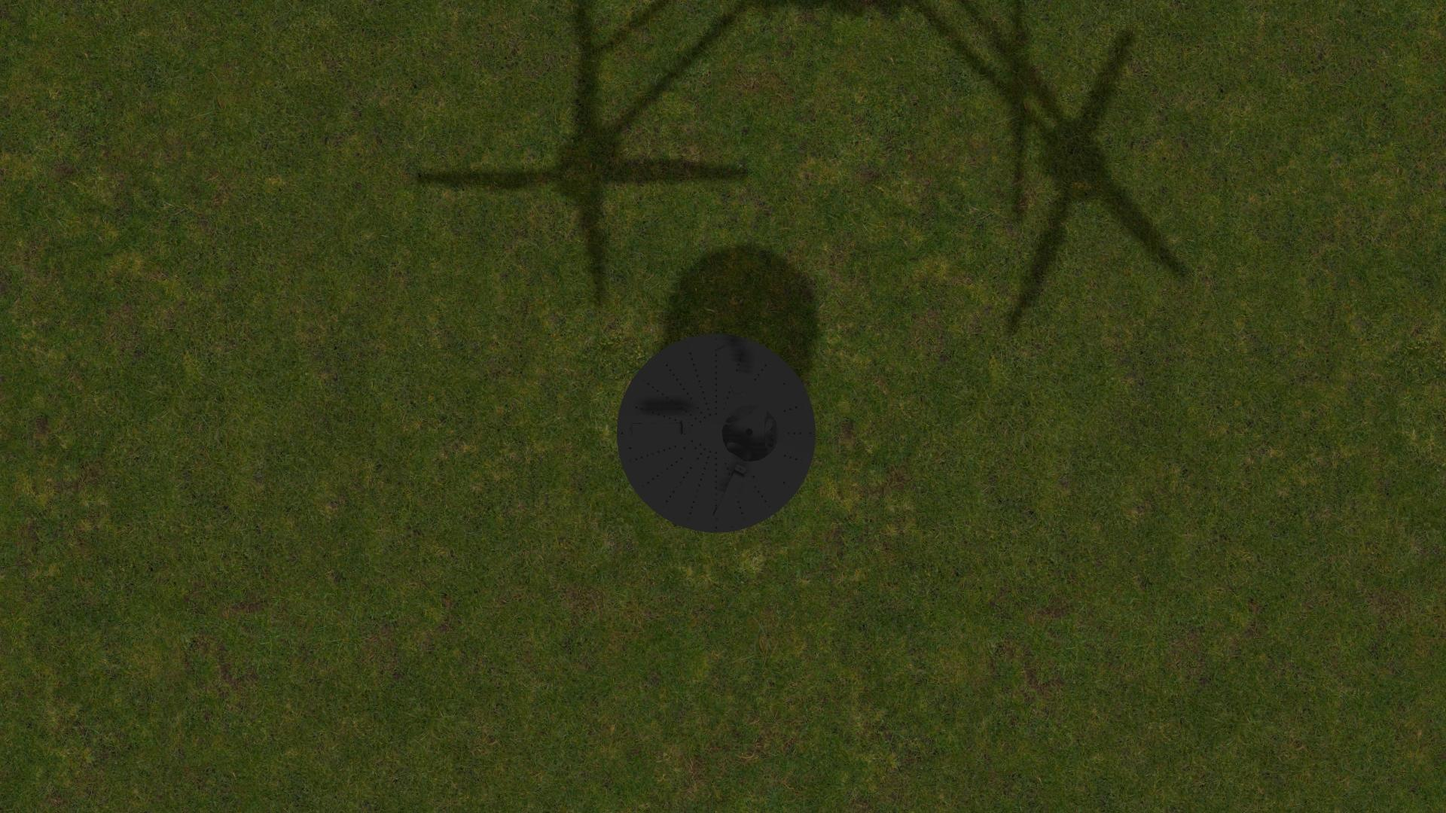alca: (710, 463, 747, 524), (713, 341, 748, 400), (627, 422, 690, 436)
armadilha: (616, 333, 816, 533)
